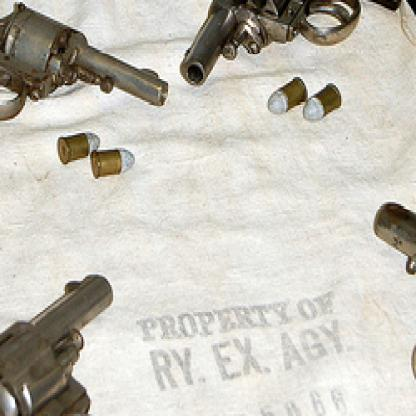gun: (0, 0, 178, 133), (178, 0, 414, 96), (0, 260, 137, 415)
